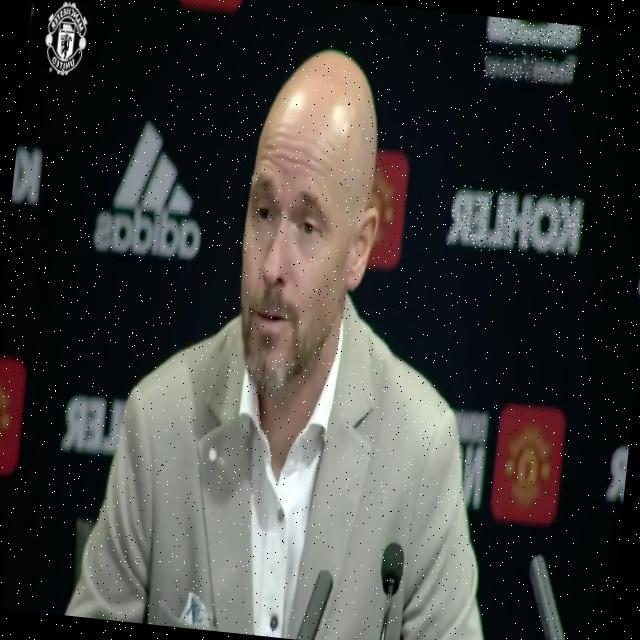Kohler: (447, 184, 586, 261)
TeamViewer: (482, 16, 580, 87)
